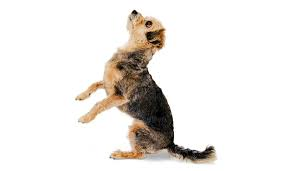dog: (108, 4, 198, 72)
